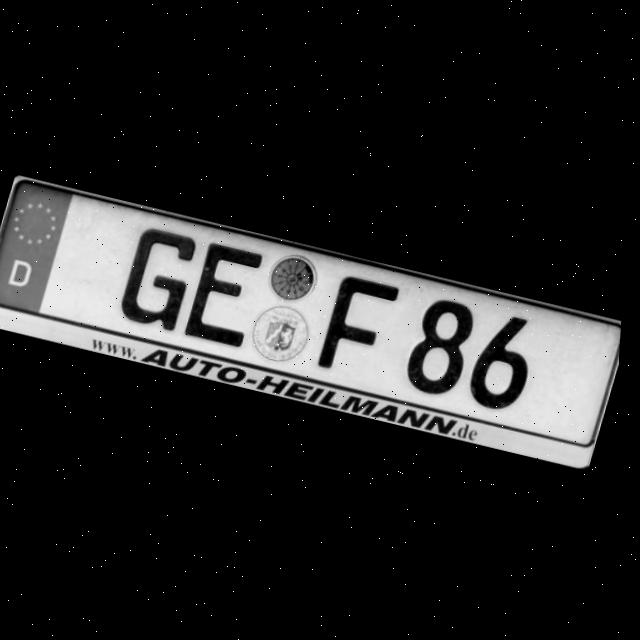license-plates: (0, 180, 621, 448)
